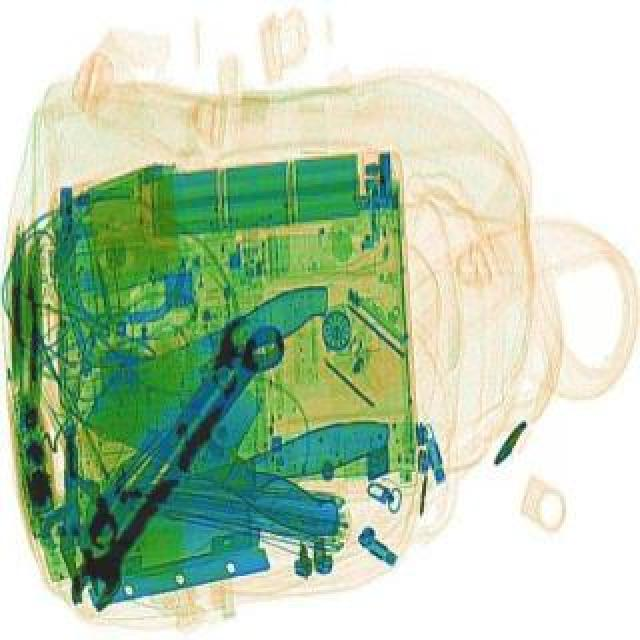knife: (72, 332, 380, 544), (62, 408, 412, 588), (74, 264, 342, 424)
scissors: (62, 314, 294, 616)
